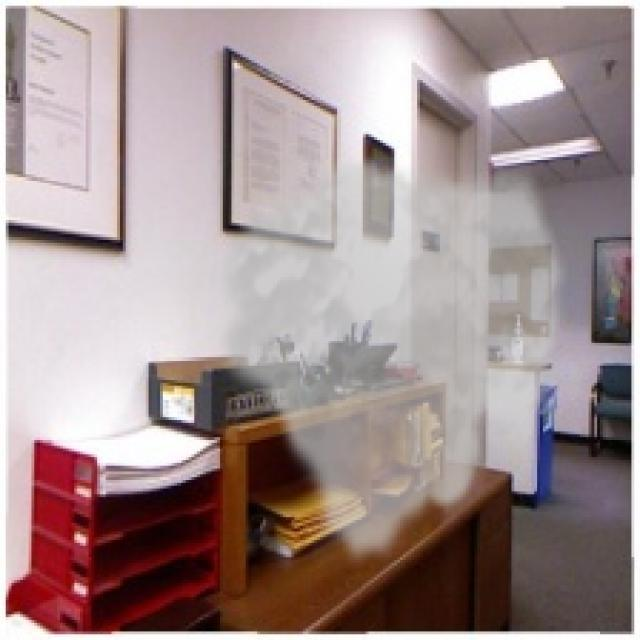Smoke: (208, 152, 572, 568)
